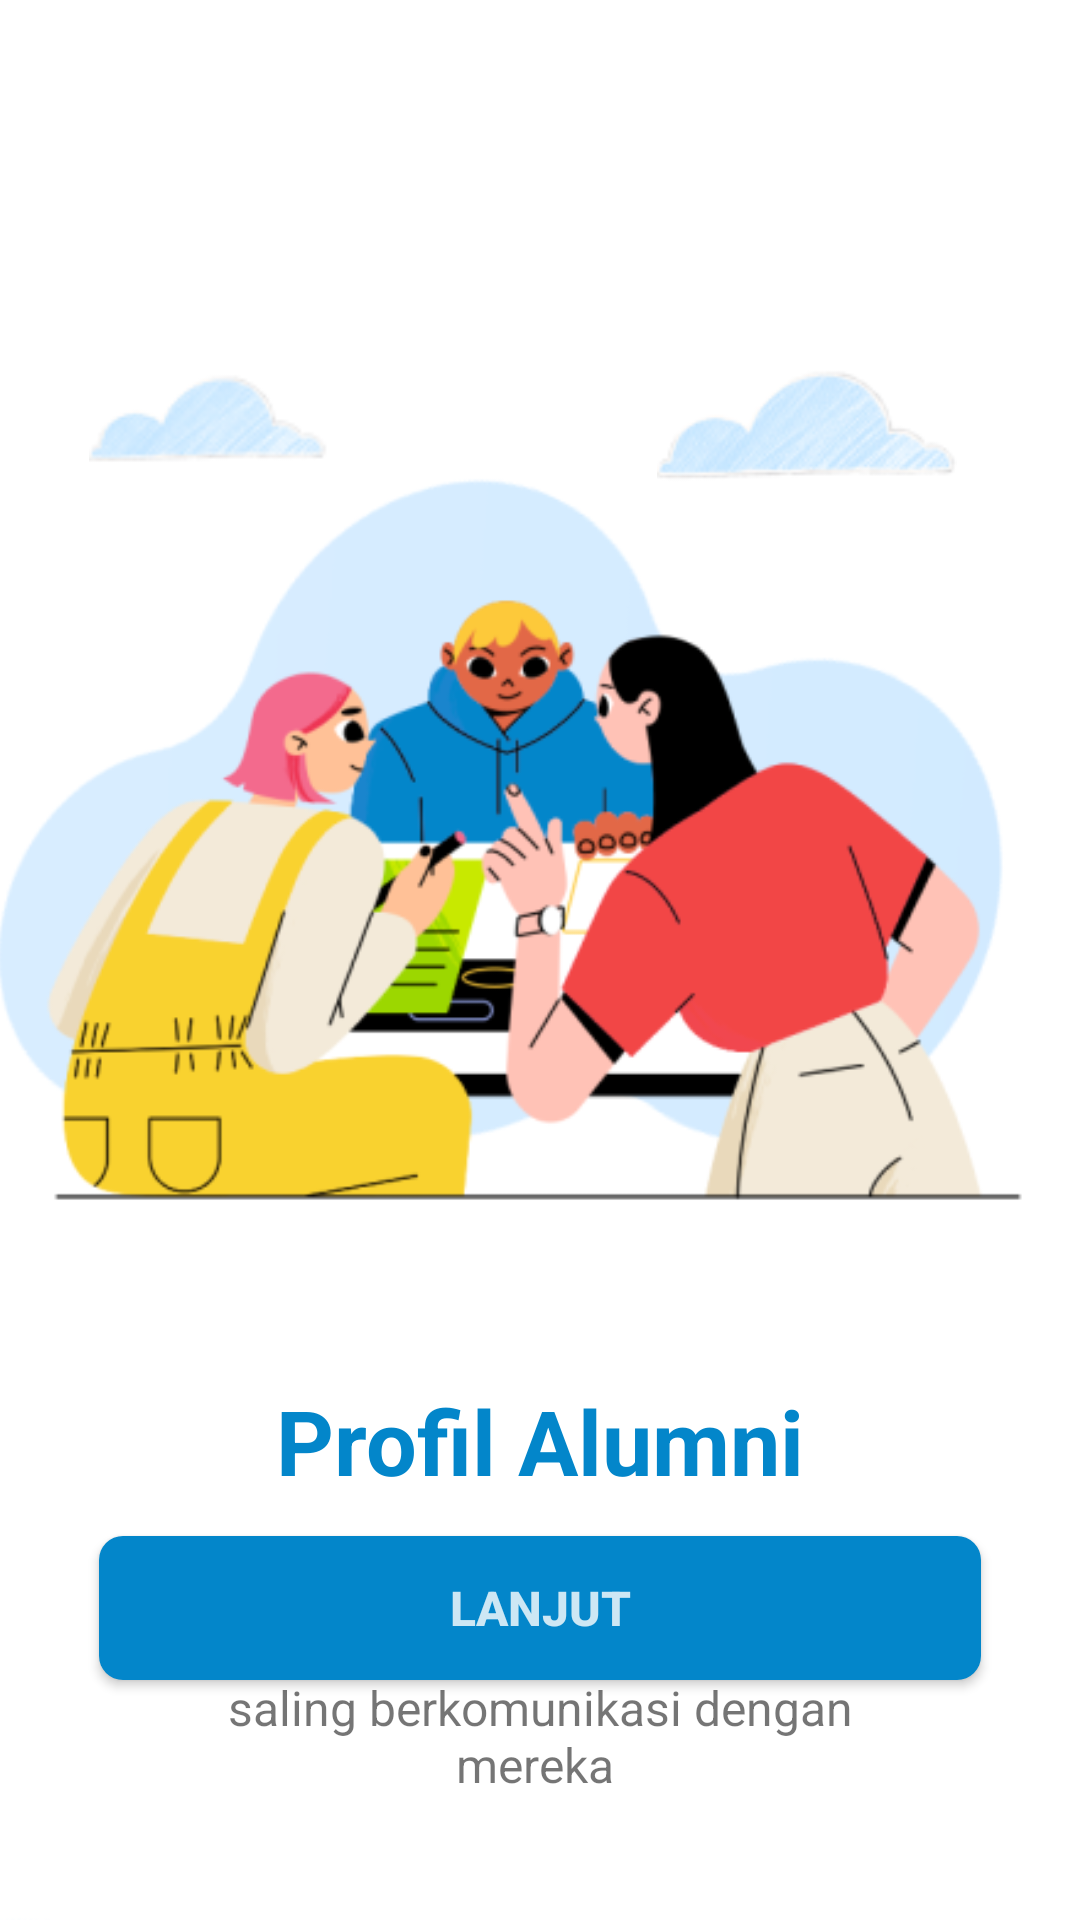

Locate icon controls on the screen. Image size 1080×1920, boxes as rect(x1, y1, x2, y2).
awankecil: rect(660, 375, 951, 477), rect(92, 380, 321, 458)
